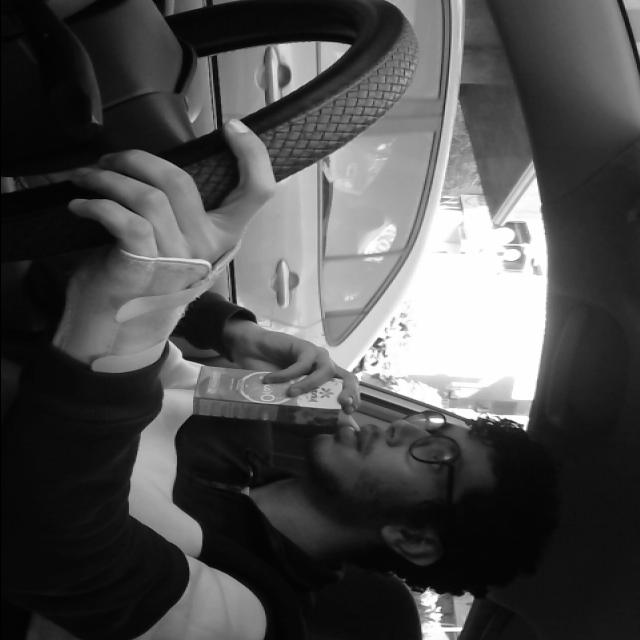drinking: (190, 362, 370, 438)
